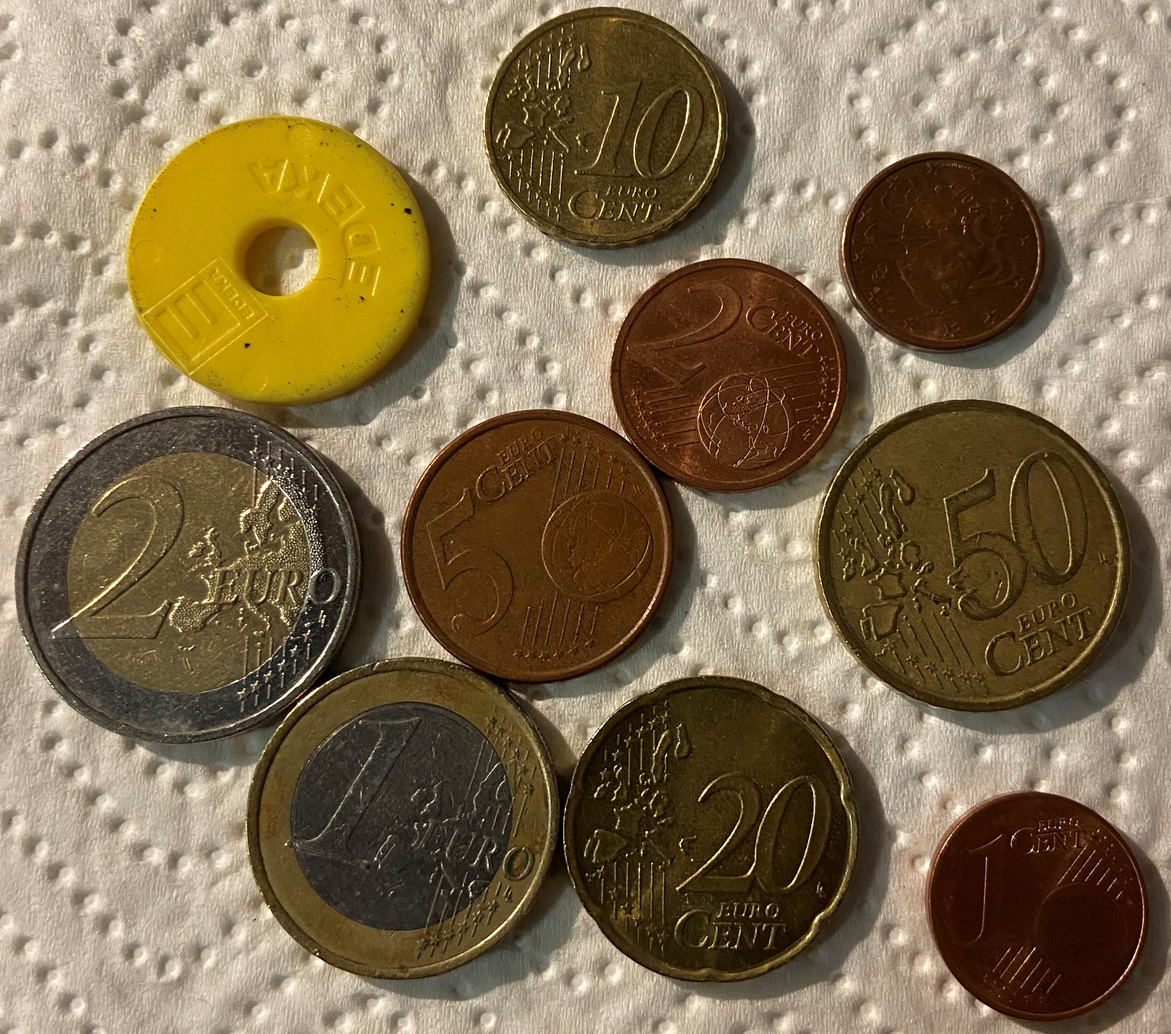1 cent: (926, 792, 1149, 1022), (840, 152, 1046, 352)
1 euro: (246, 658, 560, 980)
10 cent: (475, 6, 733, 249)
2 cent: (611, 259, 847, 493)
2 euro: (14, 405, 369, 750)
20 cent: (562, 677, 858, 983)
5 cent: (401, 410, 674, 684)
